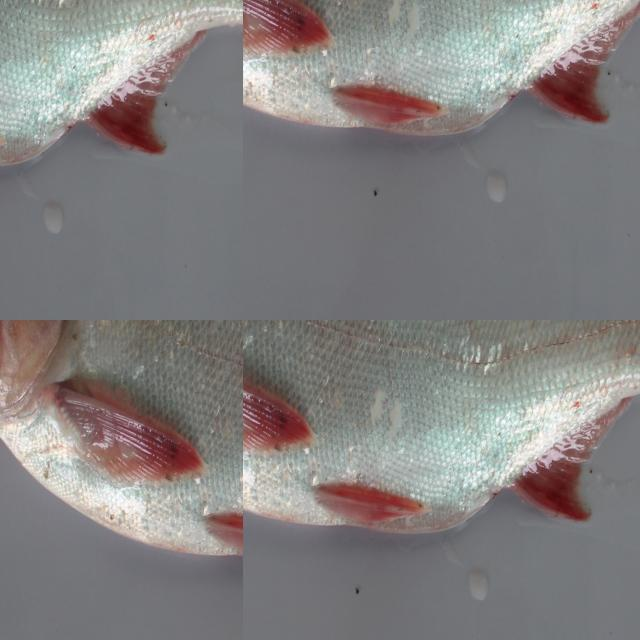fish: (243, 320, 640, 603)
